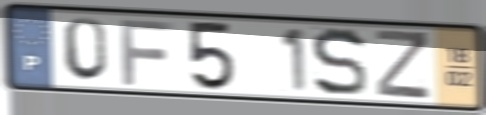0: (59, 16, 110, 85)
1: (277, 26, 309, 94)
5: (187, 18, 237, 93)
F: (117, 16, 177, 88)
S: (308, 25, 370, 100)
Z: (374, 28, 433, 103)
